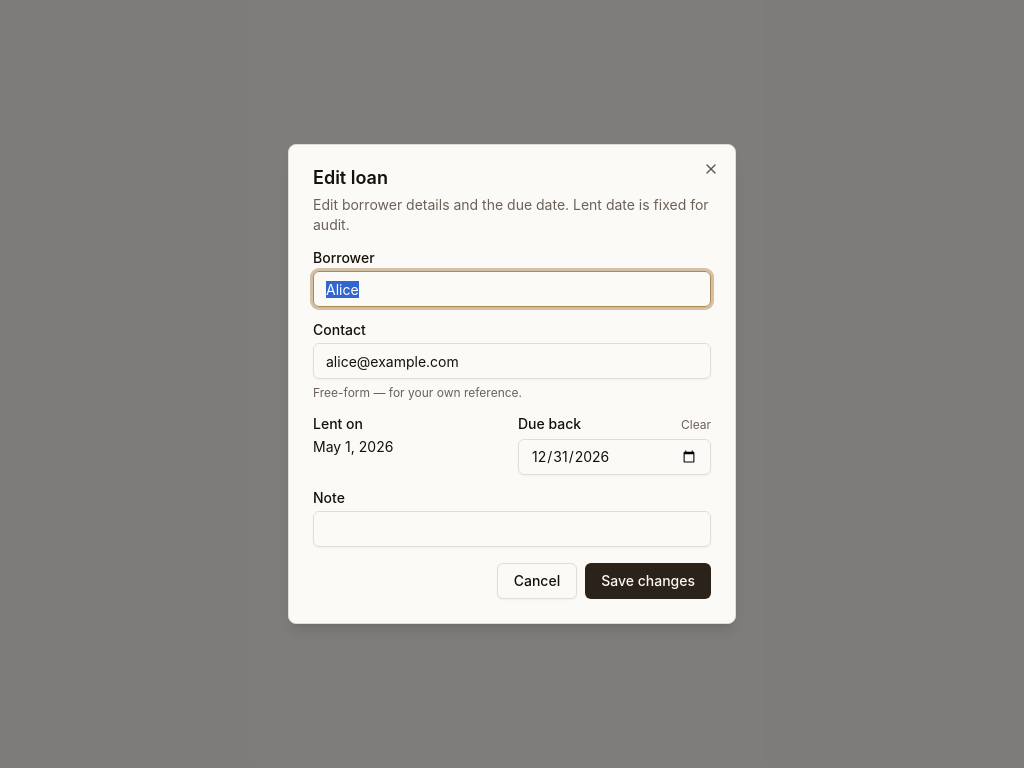
Test: <EditLoanDialog /> › blocks submit when borrower_name is emptied
Clear the field with test id "edit-loan-borrower-name" at coordinates (512, 289), box [313,271,711,307]
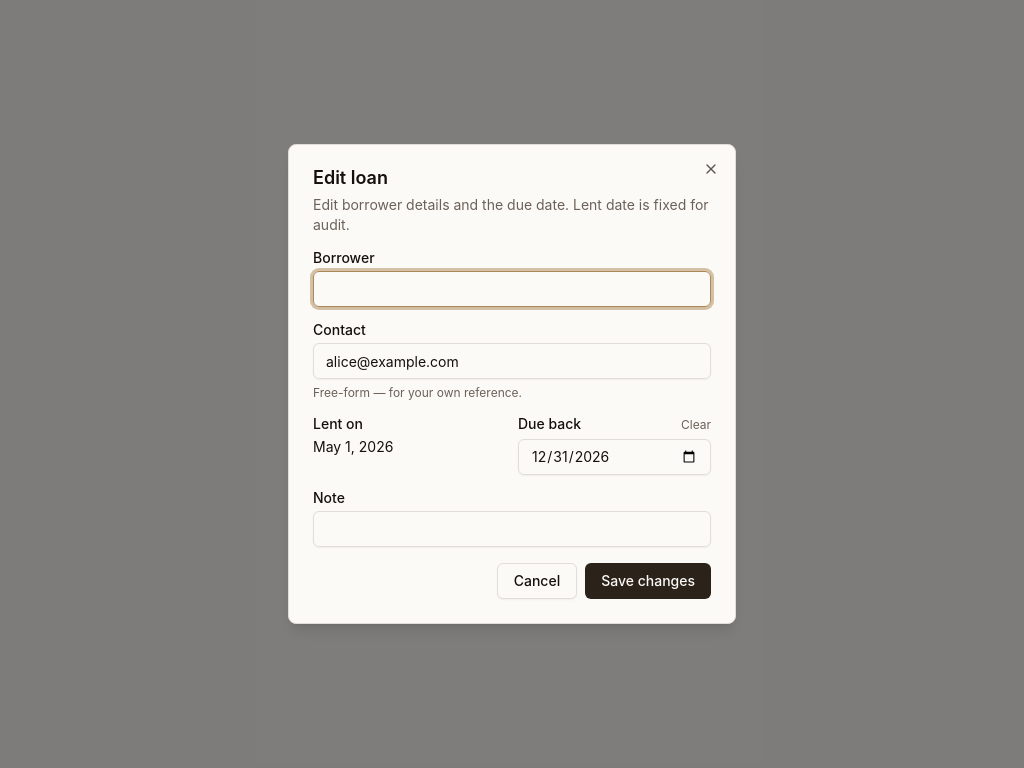
Click the button with test id "edit-loan-submit" at coordinates (648, 581), box [585,563,711,599]
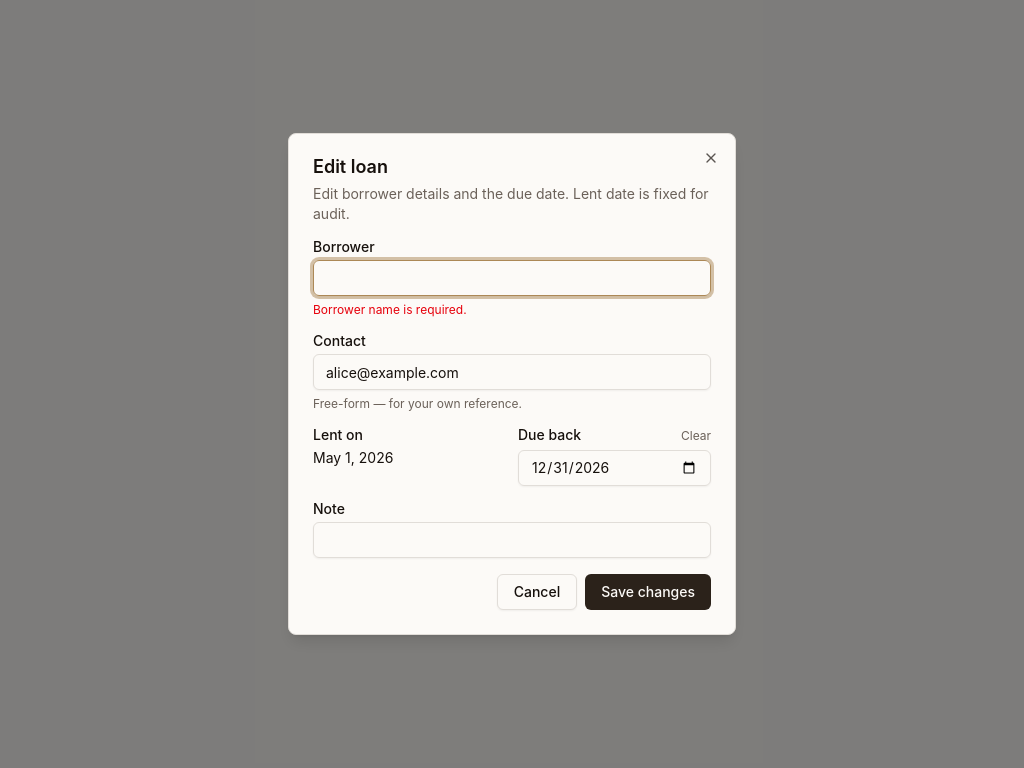
Now the text "Borrower name is required." is shown, box [313,302,467,317]
